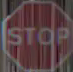Stop: (3, 4, 70, 60)
